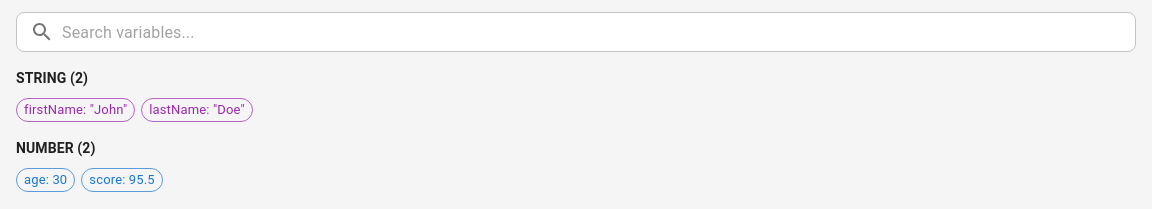
Test: CustomVariablePanel › search functionality › should filter variables by value
Type "John" into the field with placeholder "Search variables...". click: (599, 32)
box: [62,12,1136,52]
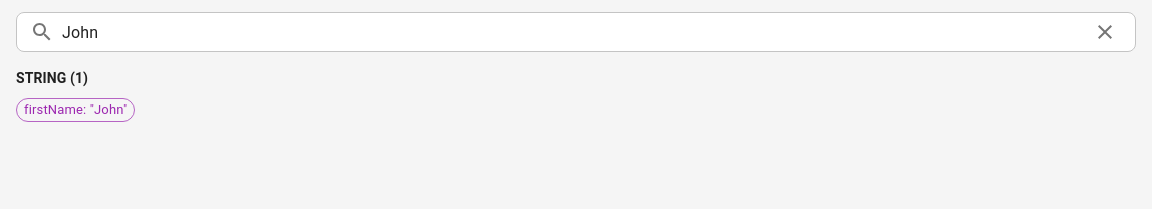
Expected: the text "firstName: \"John\"" is shown, [17,100,134,120]
Expected: the button "lastName: \"Doe\"" is gone
